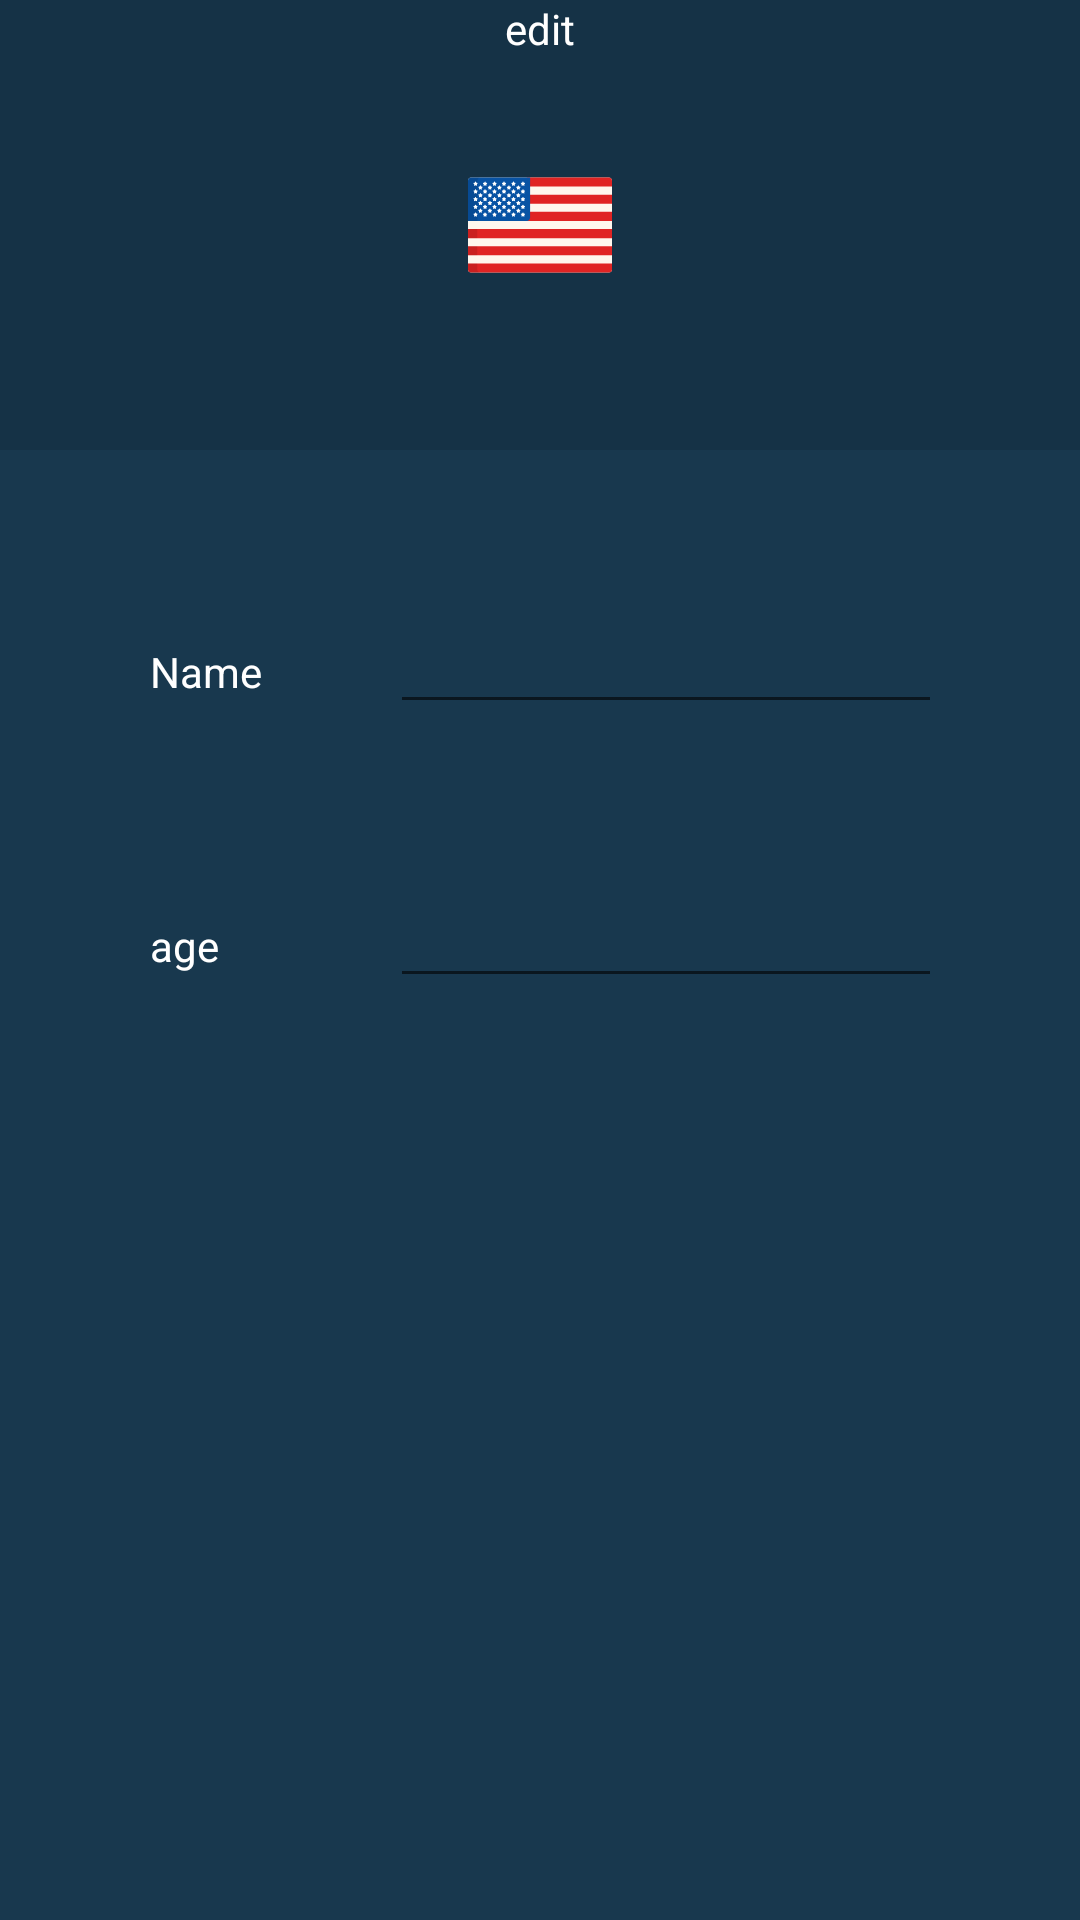

Icon bounding boxes for this 1080×1920 phone screenshot, format (x1=x1, y1=y1, x2=x2, y2=y2):
united states: (x1=468, y1=177, x2=612, y2=273)
